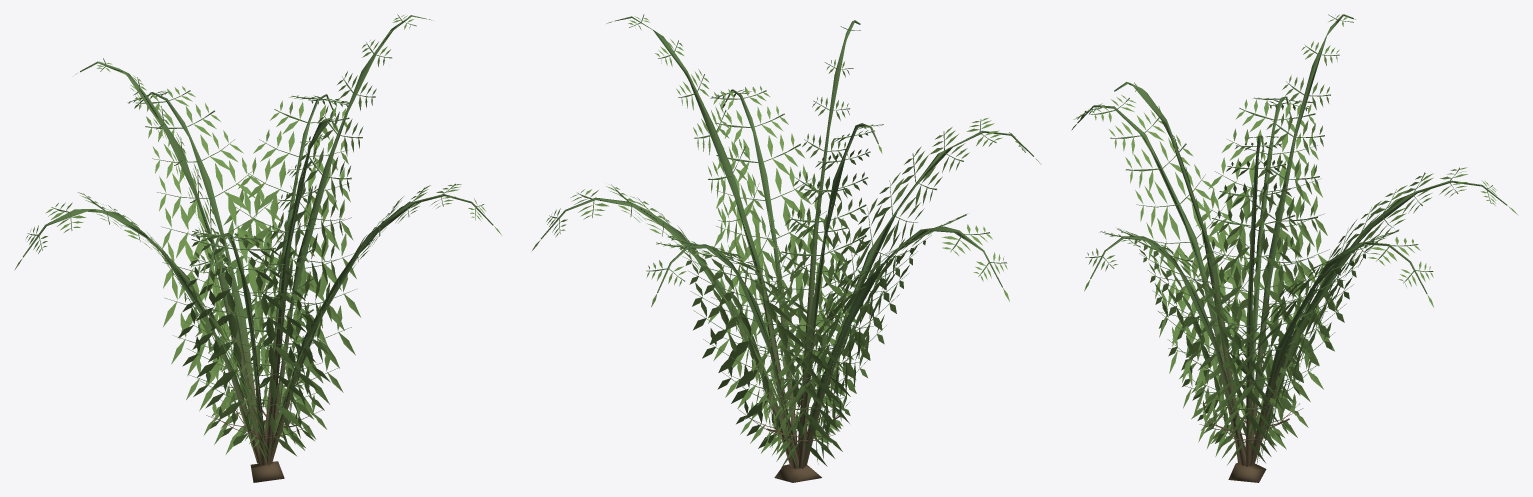
File: Fern_lod2.glb
The picture shows the model from 3 angles, left to right: view 1: azimuth 30°, elevation 25°; view 2: azimuth 150°, elevation 25°; view 3: azimuth 270°, elevation 25°; orthographic projection. The views are drawn at different scales.
Parts seen in each view (by area): view 1: Plant_LOD2; view 2: Plant_LOD2; view 3: Plant_LOD2.
Boxes of the visible parts, <box> form: Plant_LOD2: <box>14,14,501,482</box>; Plant_LOD2: <box>532,14,1041,482</box>; Plant_LOD2: <box>1071,14,1518,482</box>.
Size of the model in its own units: 0.7814 by 0.7633 by 0.7495.
